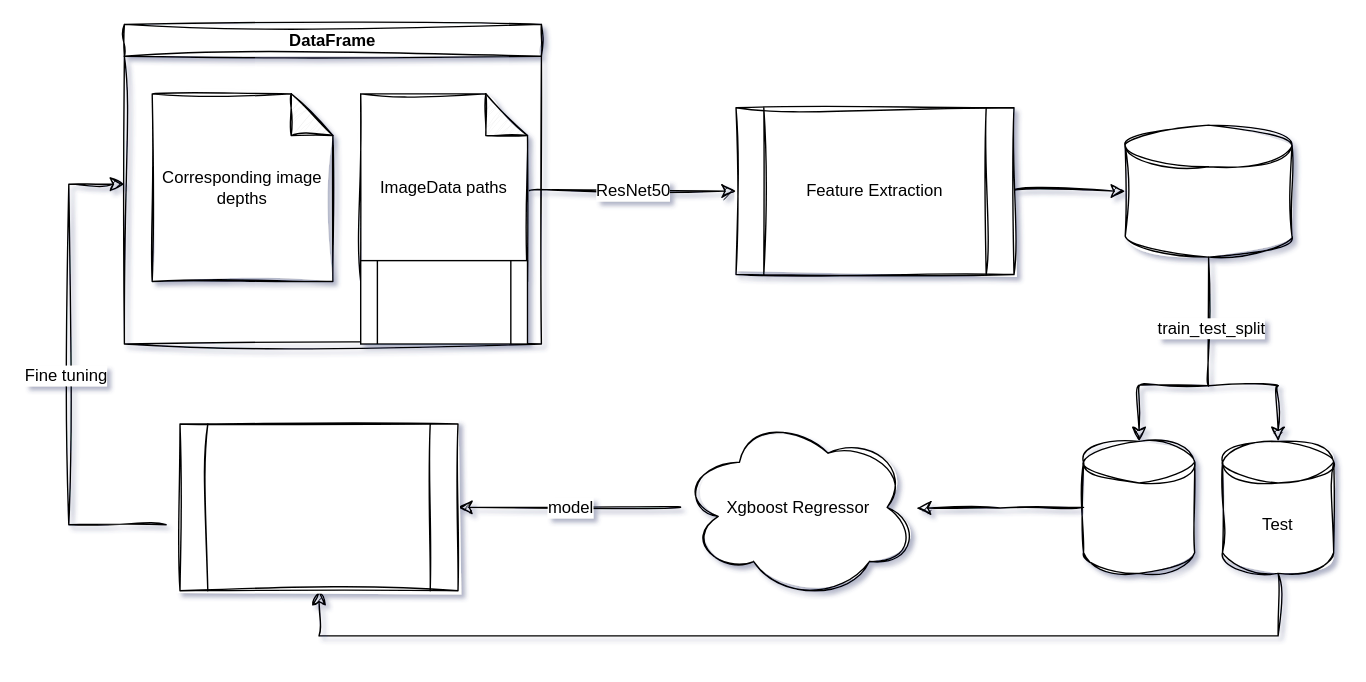
This 1366x682 diagram has some shape labels left out. The centre of each missing label's shape, as x and y in pixels:
"Dataset X,y" belongs at point 1208,190.
"Train" belongs at point 1138,506.
"using RSCV find the best estimator" belongs at point 318,507.
